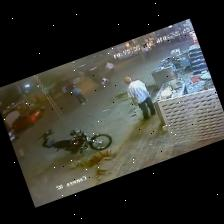person: (124, 77, 155, 120), (71, 86, 87, 105), (105, 62, 114, 74), (143, 47, 149, 58), (61, 86, 67, 97)
